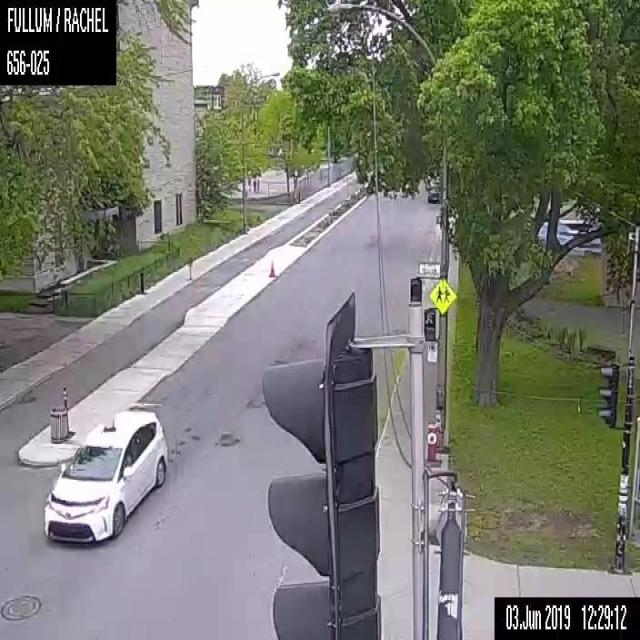construction: (268, 258, 275, 276)
vehicle: (42, 409, 166, 544), (426, 180, 441, 201)
